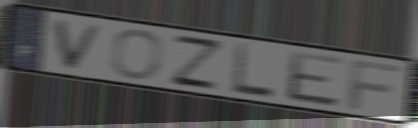E: (286, 48, 347, 110)
F: (346, 58, 404, 112)
L: (230, 40, 278, 101)
O: (107, 28, 166, 81)
V: (51, 18, 109, 73)
Z: (167, 32, 227, 93)
